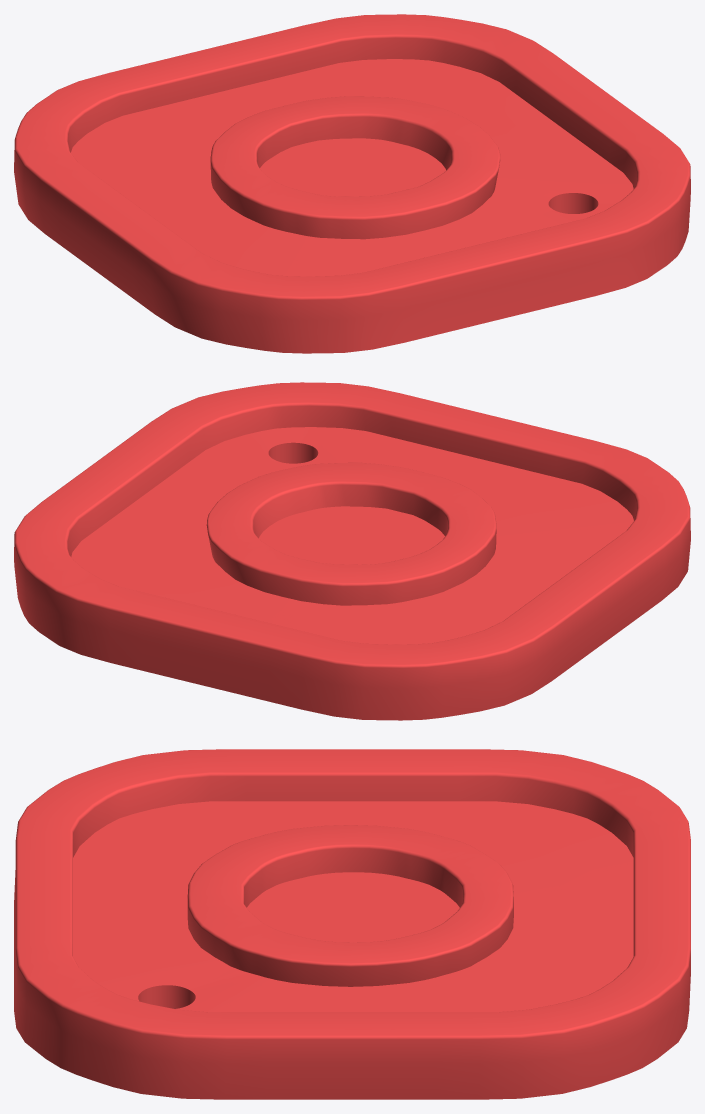
Rendered from asset.glb.
The picture shows the model from 3 angles, top to bottom: view 1: azimuth 30°, elevation 25°; view 2: azimuth 150°, elevation 25°; view 3: azimuth 270°, elevation 25°; orthographic projection. The views are drawn at different scales.
Visible parts, largest first — view 1: Plane; view 2: Plane; view 3: Plane.
Boxes of the visible parts, x1=… form: Plane: x1=14, y1=14, x2=690, y2=353; Plane: x1=14, y1=382, x2=690, y2=720; Plane: x1=14, y1=749, x2=690, y2=1099.
Size of the model in its own units: 9.2 by 0.957 by 9.1.
